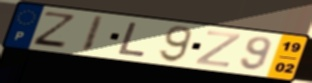9: (156, 25, 194, 64), (238, 36, 274, 72)
I: (78, 14, 105, 54)
L: (116, 21, 149, 58)
Z: (193, 30, 244, 69), (31, 10, 79, 50)
